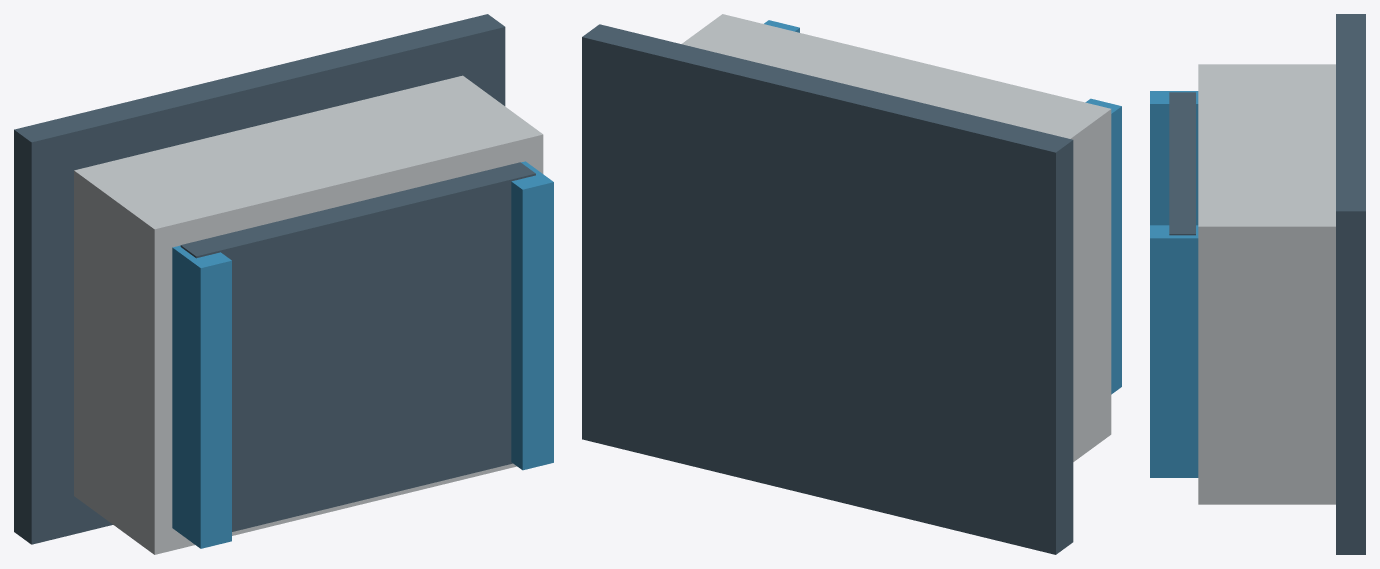
The model's file is b_strategy.glb.
3 renders of one model, left to right at view 1: azimuth 30°, elevation 25°; view 2: azimuth 150°, elevation 25°; view 3: azimuth 270°, elevation 25°, orthographic. The views are drawn at different scales.
Parts seen in each view (by area): view 1: roof, main_structure, foundation, support_-1.7999999999999998, support_1.7999999999999998; view 2: foundation, main_structure, support_-1.7999999999999998; view 3: main_structure, foundation, support_1.7999999999999998, roof, support_-1.7999999999999998.
Part boxes in pixels (<box>): roof: <box>180,162,535,531</box>; main_structure: <box>74,75,543,554</box>; foundation: <box>14,14,505,544</box>; support_-1.7999999999999998: <box>172,245,231,548</box>; support_1.7999999999999998: <box>511,161,553,470</box>; foundation: <box>582,24,1073,554</box>; main_structure: <box>681,14,1111,461</box>; support_-1.7999999999999998: <box>1085,98,1121,394</box>; main_structure: <box>1198,64,1335,504</box>; foundation: <box>1336,14,1365,554</box>; support_1.7999999999999998: <box>1150,225,1198,477</box>; roof: <box>1169,92,1195,235</box>; support_-1.7999999999999998: <box>1150,91,1198,225</box>.
Size of the model in its own units: 5.3 by 4.3 by 2.45.
